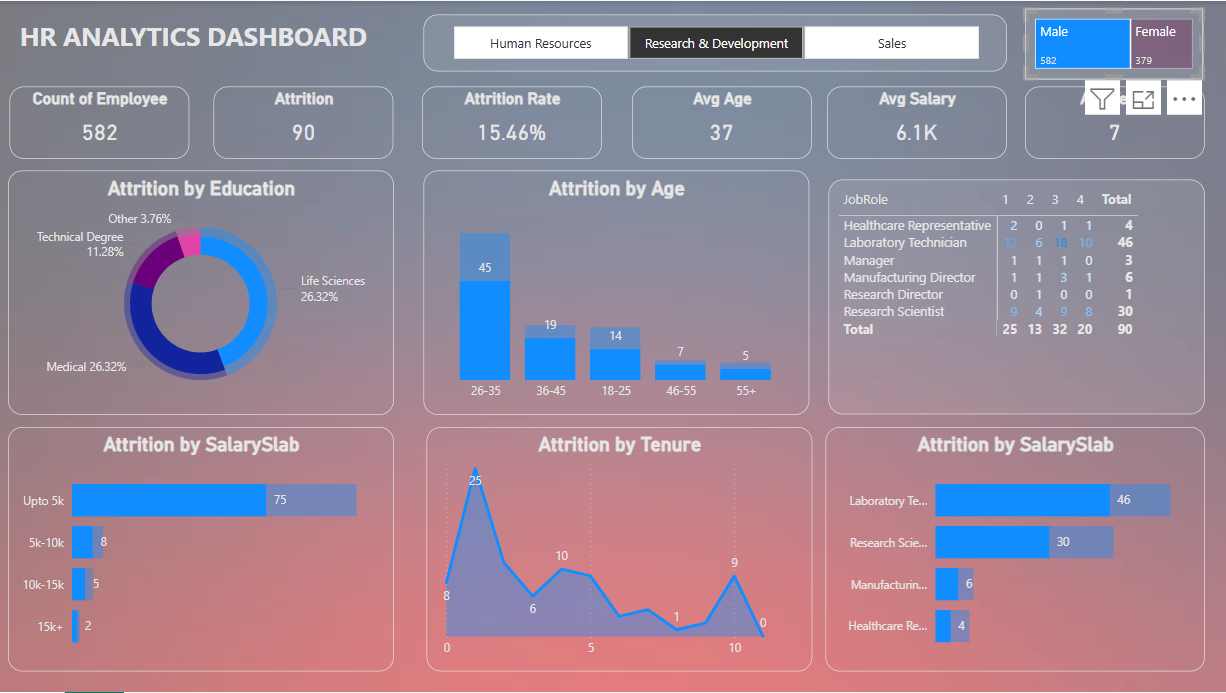

The dashboard page shown, as its layout file describes it:
{"tool":"powerbi","page":{"name":"Page 1","canvas":[1280,720],"ordinal":0},"visuals":[{"type":"card","title":"Count of Employee","fields":{"Values":["Count(HR_Analytics.EmpID)"]},"box":[10.3,89,187.5,75.4],"z":0},{"type":"card","title":"Attrition","fields":{"Values":["Sum(HR_Analytics.AttritionCount)"]},"box":[223.6,89,187.5,75.4],"z":1000},{"type":"card","title":"Attrition Rate","fields":{"Values":["HR_Analytics.AttritionRate"]},"box":[441.3,89,187.3,75.2],"z":2000},{"type":"card","title":"Avg Age","fields":{"Values":["Avg(HR_Analytics.Age)"]},"box":[658.9,89,187.3,75.2],"z":3000},{"type":"card","title":"Avg Salary","fields":{"Values":["Avg(HR_Analytics.MonthlyIncome)"]},"box":[862.2,89,187.3,75.2],"z":4000},{"type":"card","title":"Avg Years","fields":{"Values":["Avg(HR_Analytics.YearsAtCompany)"]},"box":[1068.7,89,187.3,75.2],"z":5000},{"type":"donutChart","title":"Attrition by Education","fields":{"Category":["HR_Analytics.EducationField"],"Y":["Sum(HR_Analytics.AttritionCount)"]},"box":[9.6,176.1,401.8,254.5],"z":6000},{"type":"columnChart","title":"Attrition by Age","fields":{"Category":["HR_Analytics.AgeGroup"],"Y":["Sum(HR_Analytics.AttritionCount)"]},"box":[441.8,176.1,401.8,254.5],"z":7000},{"type":"pivotTable","fields":{"Rows":["HR_Analytics.JobRole"],"Columns":["HR_Analytics.JobSatisfaction"],"Values":["Sum(HR_Analytics.AttritionCount)"]},"box":[864.4,185.7,392.2,244.9],"z":8000},{"type":"barChart","title":"Attrition by SalarySlab","fields":{"Category":["HR_Analytics.SalarySlab"],"Y":["Sum(HR_Analytics.AttritionCount)"]},"box":[9.6,443.4,401.8,254.5],"z":9000},{"type":"areaChart","title":"Attrition by Tenure","fields":{"Category":["HR_Analytics.YearsAtCompany"],"Y":["Sum(HR_Analytics.AttritionCount)"]},"box":[445,443.4,401.8,254.5],"z":10000},{"type":"barChart","title":"Attrition by SalarySlab","fields":{"Category":["HR_Analytics.JobRole"],"Y":["Sum(HR_Analytics.AttritionCount)"]},"box":[861.2,443.4,395.4,254.5],"z":11000},{"type":"treemap","fields":{"Group":["HR_Analytics.Gender"],"Values":["CountNonNull(HR_Analytics.Attrition)"]},"box":[1069,8,186,74],"z":12000},{"type":"slicer","fields":{"Values":["HR_Analytics.Department"]},"box":[441.8,14.4,608.3,59.2],"z":13000},{"type":"textbox","box":[9.6,12.8,385.8,65.6],"z":14000}]}

Visuals, with their boxes in screenshot pixels (x1, y1, x2, y2), scaled from the page's 1280x720 canvas onto the 1226x693 screenshot:
"Count of Employee" card: bbox=[10, 86, 189, 158]
"Attrition" card: bbox=[214, 86, 394, 158]
"Attrition Rate" card: bbox=[423, 86, 602, 158]
"Avg Age" card: bbox=[631, 86, 811, 158]
"Avg Salary" card: bbox=[826, 86, 1005, 158]
"Avg Years" card: bbox=[1024, 86, 1203, 158]
"Attrition by Education" donutChart: bbox=[9, 169, 394, 414]
"Attrition by Age" columnChart: bbox=[423, 169, 808, 414]
pivotTable - HR_Analytics.JobRole x HR_Analytics.JobSatisfaction: bbox=[828, 179, 1204, 414]
"Attrition by SalarySlab" barChart: bbox=[9, 427, 394, 672]
"Attrition by Tenure" areaChart: bbox=[426, 427, 811, 672]
"Attrition by SalarySlab" barChart: bbox=[825, 427, 1204, 672]
treemap - HR_Analytics.Gender x CountNonNull(HR_Analytics.Attrition): bbox=[1024, 8, 1202, 79]
slicer - HR_Analytics.Department: bbox=[423, 14, 1006, 71]
textbox: bbox=[9, 12, 379, 75]
